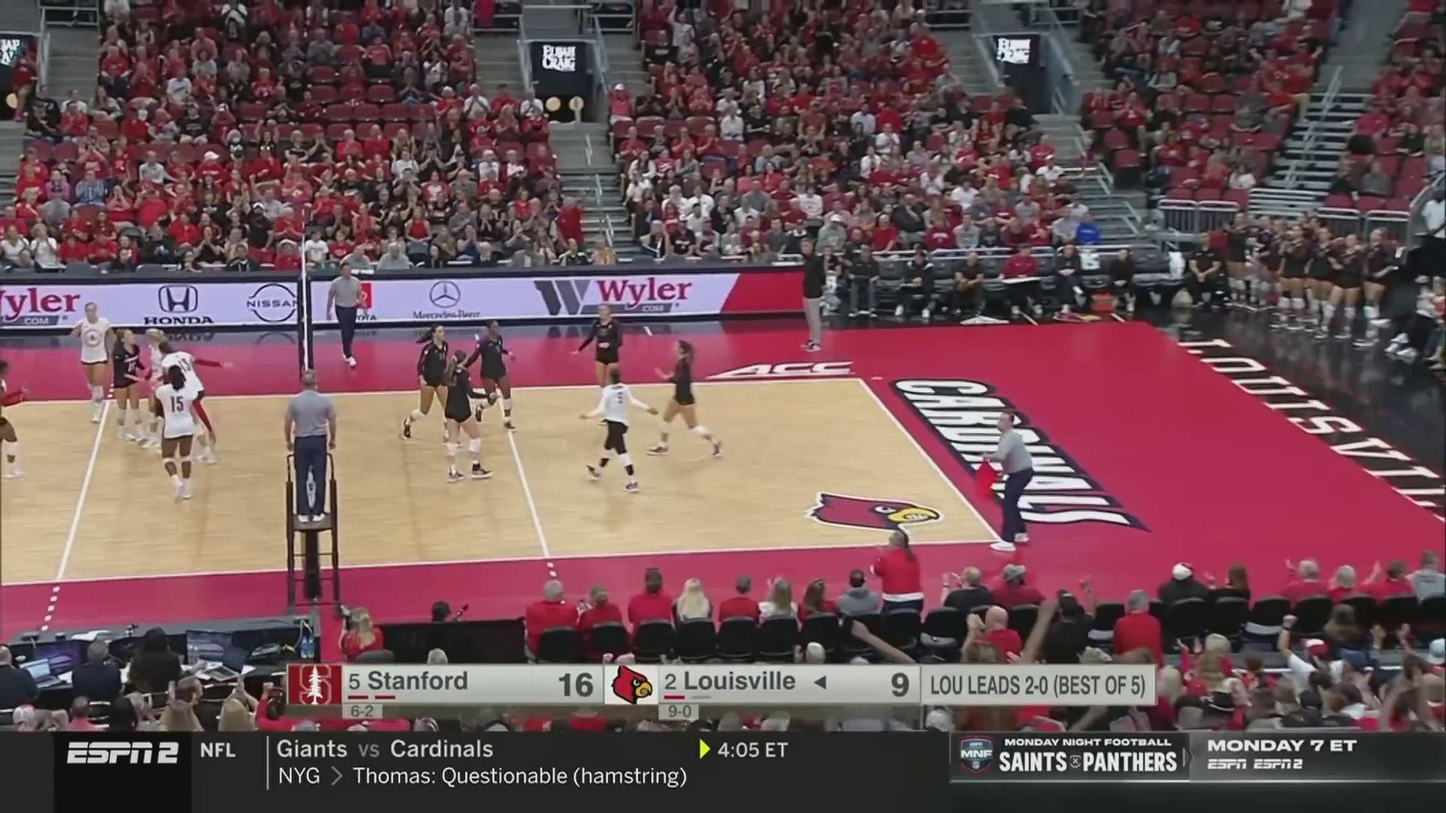player: (143, 340, 228, 466), (650, 342, 729, 456), (141, 372, 207, 503), (587, 374, 657, 493), (436, 354, 497, 483), (459, 322, 522, 431), (576, 307, 640, 410), (139, 326, 192, 450), (410, 321, 462, 447), (75, 303, 119, 440), (105, 325, 146, 445), (0, 351, 31, 483)
refree: (976, 411, 1038, 553), (283, 380, 344, 520), (323, 256, 371, 370)
